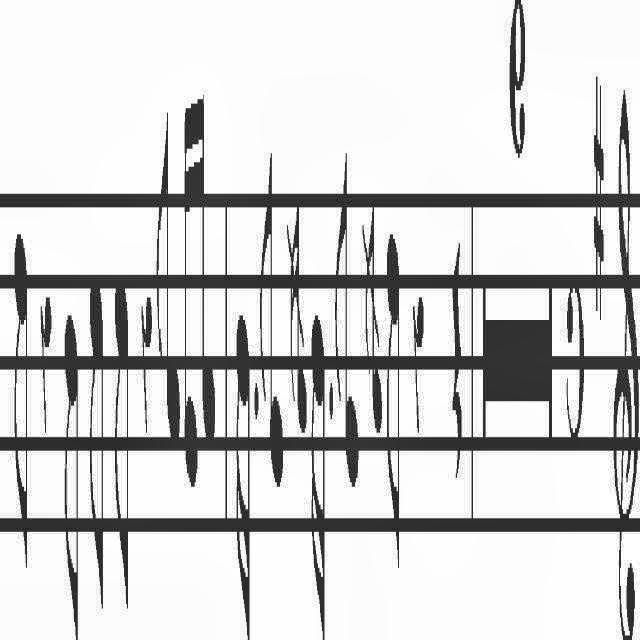Bass-clef: (612, 48, 640, 640)
Diez: (588, 46, 608, 310)
Eighth-note: (258, 131, 286, 517), (155, 72, 181, 480), (334, 149, 360, 519), (384, 196, 404, 626), (111, 256, 133, 640), (9, 196, 29, 600), (60, 296, 80, 640), (88, 254, 106, 634)
Eighth-rest: (410, 239, 428, 493), (37, 276, 54, 472), (139, 245, 153, 475)
Quarter-rest: (448, 208, 464, 532)
Sixteenth-note: (199, 51, 217, 470), (234, 266, 252, 640), (309, 270, 327, 640), (184, 75, 198, 501)
